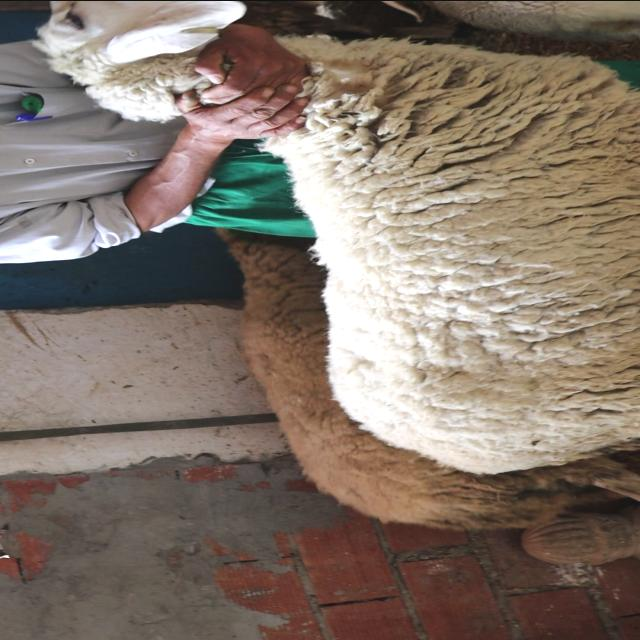Score_3: (261, 36, 639, 473)
